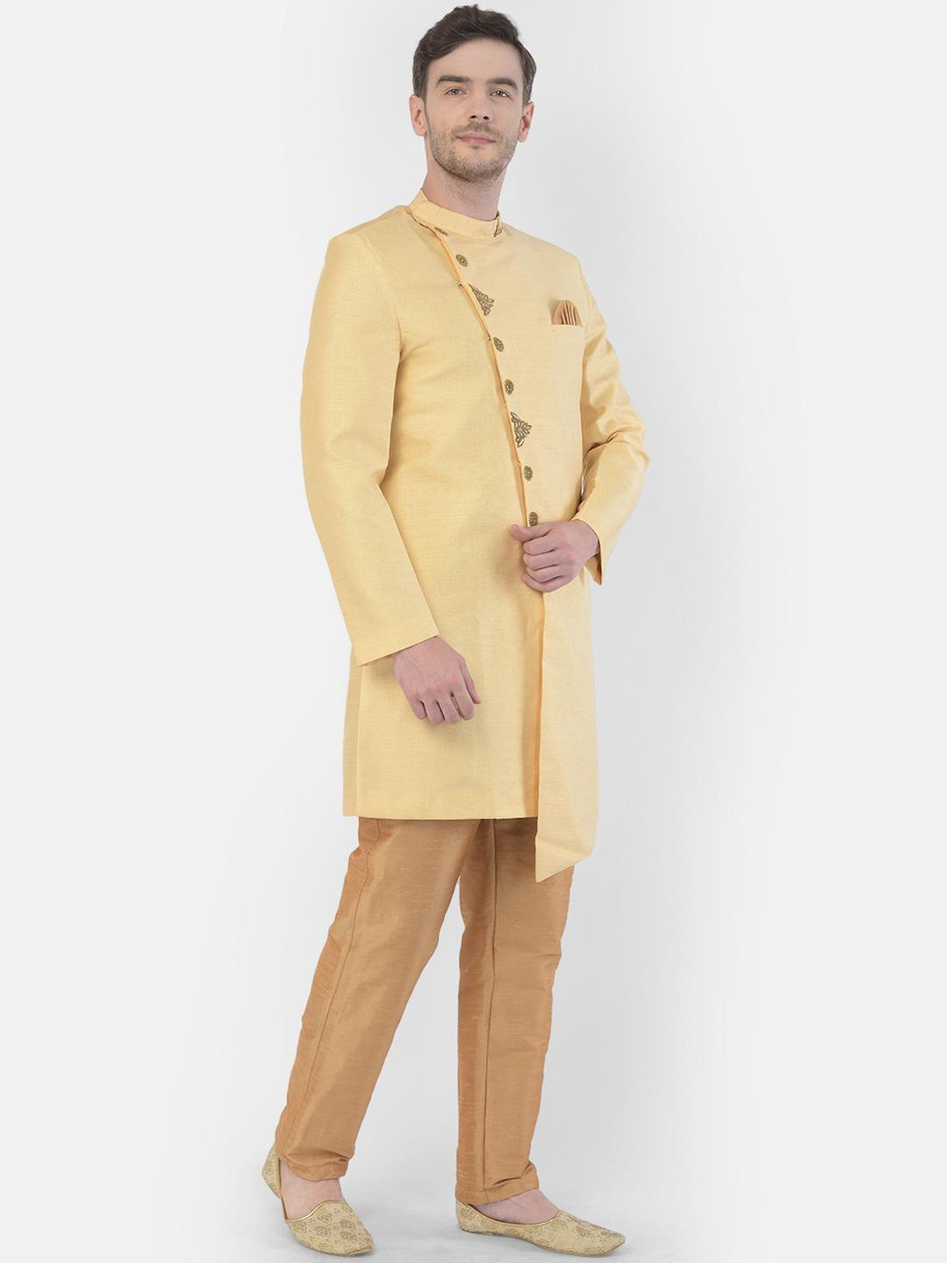Plain sherwani: (292, 189, 650, 898)
